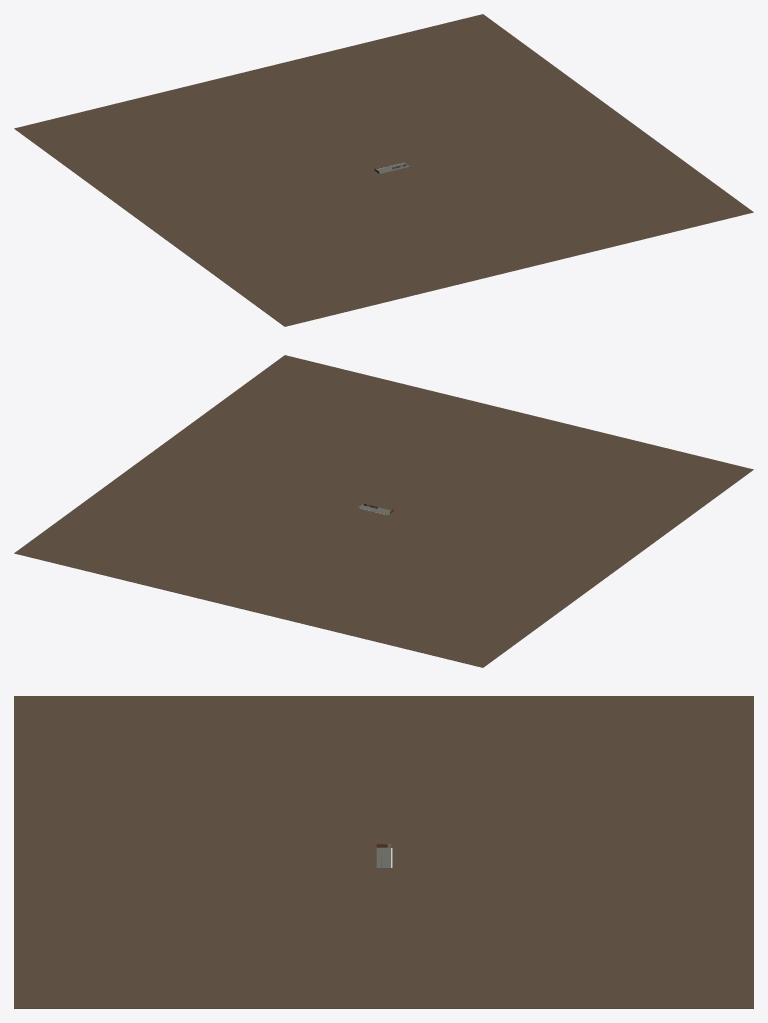
3 renders of one model, top to bottom at view 1: azimuth 30°, elevation 25°; view 2: azimuth 150°, elevation 25°; view 3: azimuth 270°, elevation 25°, orthographic. The views are drawn at different scales.
Parts seen in each view (by area): view 1: ground, ground_003, ground_001, ground_002; view 2: ground, ground_003, ground_001, ground_002; view 3: ground, ground_003, ground_001, ground_002.
Boxes of the visible parts, <box> form: ground: <box>152,115,753,326</box>; ground_003: <box>14,14,614,225</box>; ground_001: <box>146,170,378,229</box>; ground_002: <box>404,111,620,166</box>; ground: <box>152,355,753,566</box>; ground_003: <box>14,456,614,667</box>; ground_001: <box>388,511,620,570</box>; ground_002: <box>146,452,362,507</box>; ground: <box>14,696,376,1008</box>; ground_003: <box>392,696,753,1008</box>; ground_001: <box>376,696,392,847</box>; ground_002: <box>376,868,392,1008</box>.
Size of the model in its own units: 800 by 4.3 by 800.
